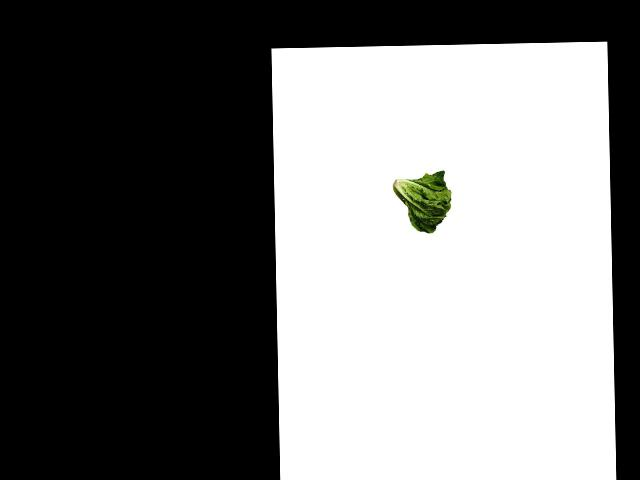lettuce: (389, 169, 454, 235)
